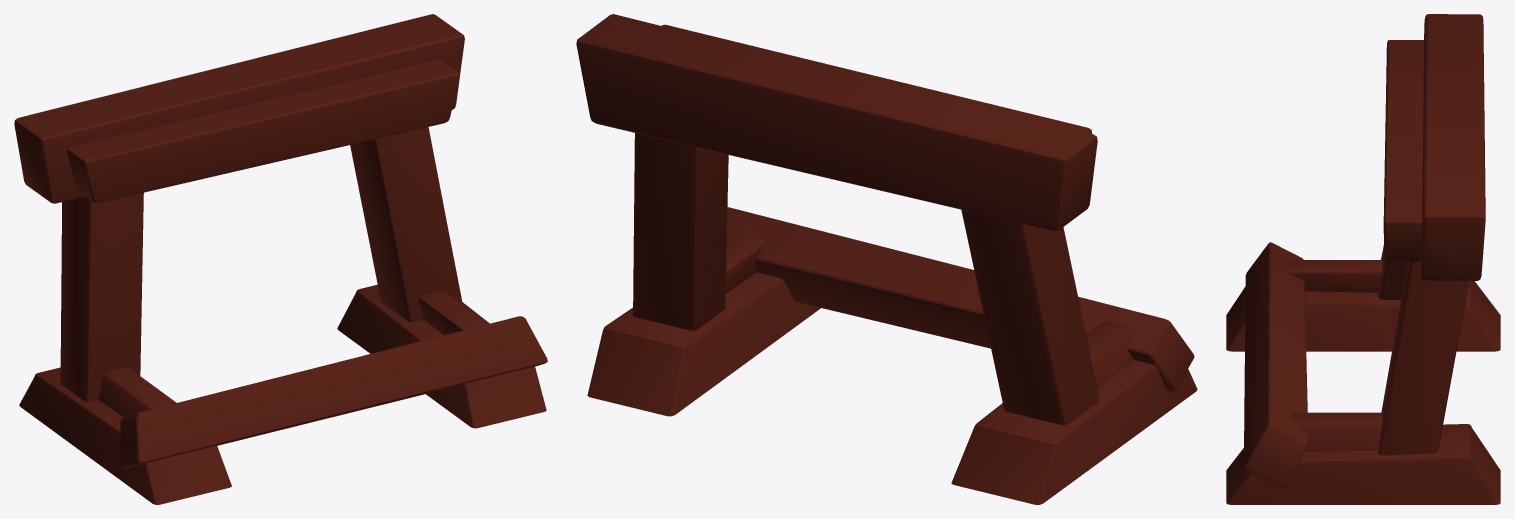
The model's file is weaponRack.obj.
3 renders of one model, left to right at view 1: azimuth 30°, elevation 25°; view 2: azimuth 150°, elevation 25°; view 3: azimuth 270°, elevation 25°, orthographic. The views are drawn at different scales.
Parts seen in each view (by area): view 1: weaponRack_Cube.4015; view 2: weaponRack_Cube.4015; view 3: weaponRack_Cube.4015.
Part boxes in pixels (x1,y1,x2,y2): weaponRack_Cube.4015: [14, 14, 547, 504]; weaponRack_Cube.4015: [576, 14, 1197, 504]; weaponRack_Cube.4015: [1226, 14, 1500, 504].
Size of the model in its own units: 1.16 by 0.7818 by 0.6538.
